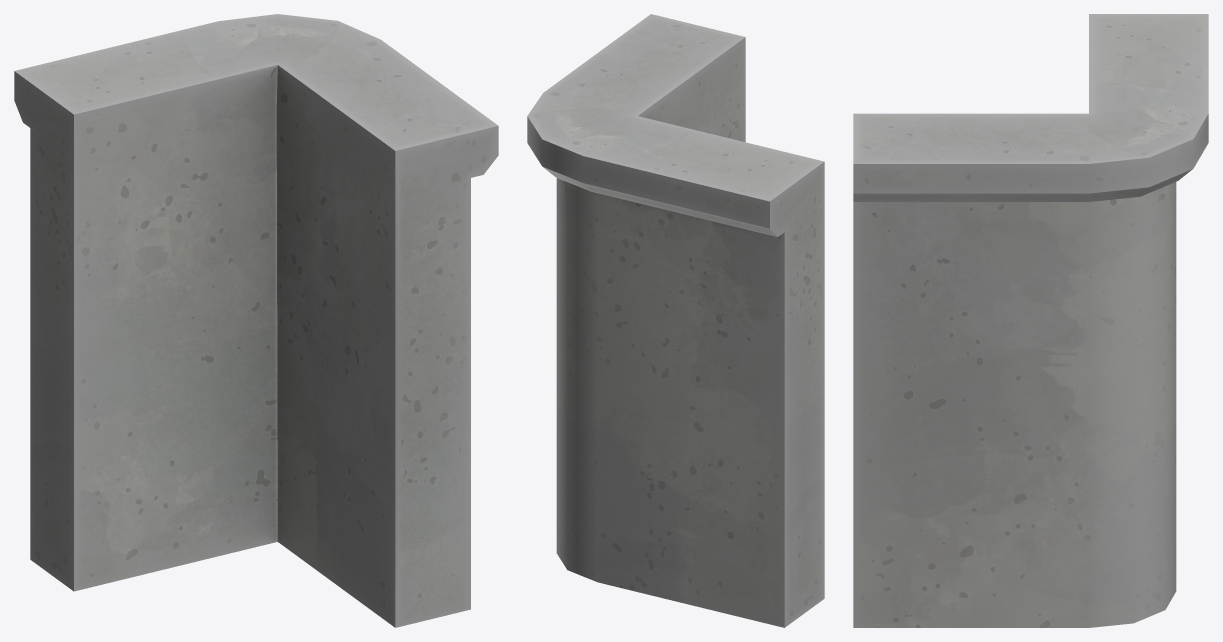
File: Corner Out.fbx
3 views of the same model, side by side, from view 1: azimuth 30°, elevation 25°; view 2: azimuth 150°, elevation 25°; view 3: azimuth 270°, elevation 25° (orthographic). The views are drawn at different scales.
Parts seen in each view (by area): view 1: Corner Out; view 2: Corner Out; view 3: Corner Out.
Boxes of the visible parts, x1=… form: Corner Out: x1=14, y1=14, x2=498, y2=627; Corner Out: x1=527, y1=14, x2=824, y2=627; Corner Out: x1=853, y1=14, x2=1208, y2=627.
Size of the model in its own units: 301 by 447 by 301.
Materials: 1 (1 with a texture image).
